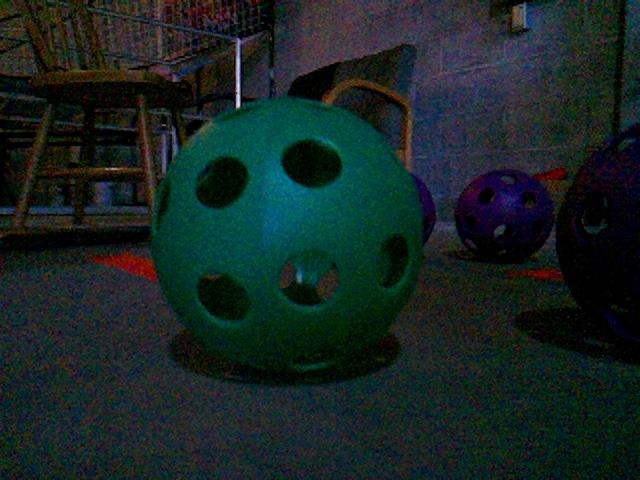Green: (147, 99, 426, 375)
Purple: (556, 121, 640, 351), (453, 167, 556, 262), (409, 173, 437, 245)
